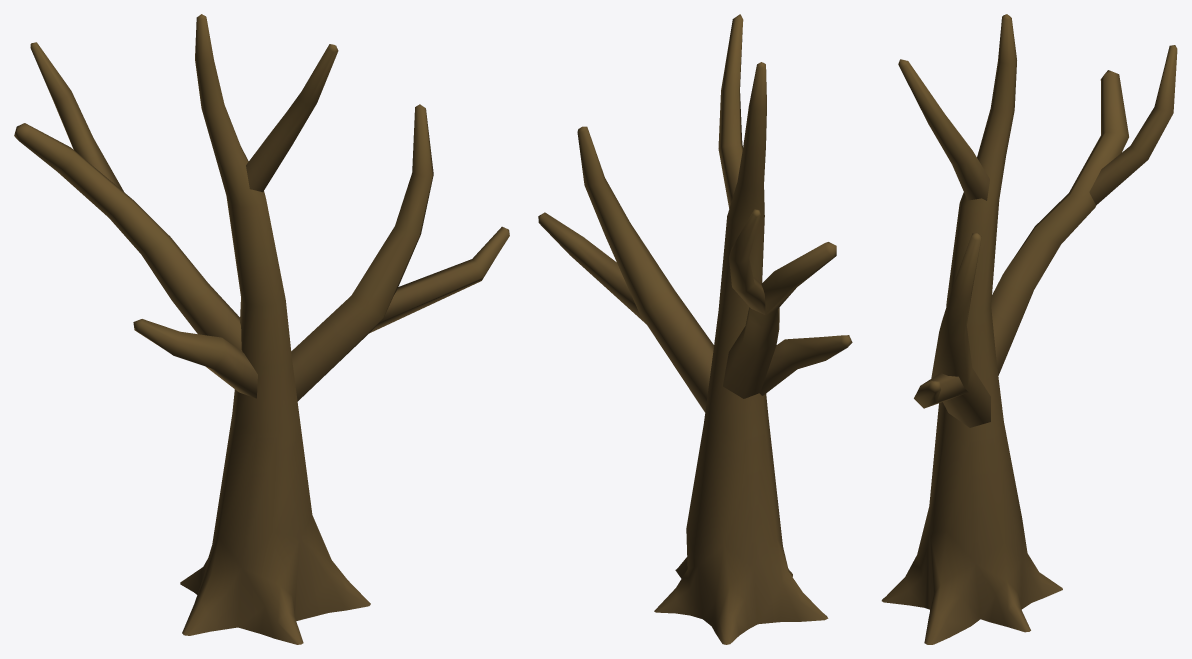
File: SM_Tree_A.fbx
The picture shows the model from 3 angles, left to right: view 1: azimuth 30°, elevation 25°; view 2: azimuth 150°, elevation 25°; view 3: azimuth 270°, elevation 25°; orthographic projection. The views are drawn at different scales.
Visible parts, largest first — view 1: SM_Tree_A; view 2: SM_Tree_A; view 3: SM_Tree_A.
Boxes of the visible parts, x1=… form: SM_Tree_A: x1=14, y1=14, x2=509, y2=644; SM_Tree_A: x1=538, y1=14, x2=852, y2=644; SM_Tree_A: x1=881, y1=14, x2=1177, y2=644.
Bounding box in the file's own units: 427 × 601 × 282.
